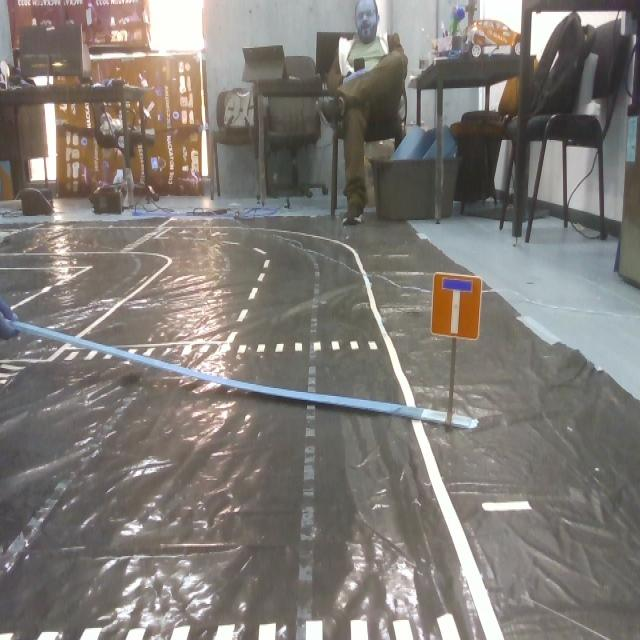stop: (431, 268, 486, 344)
